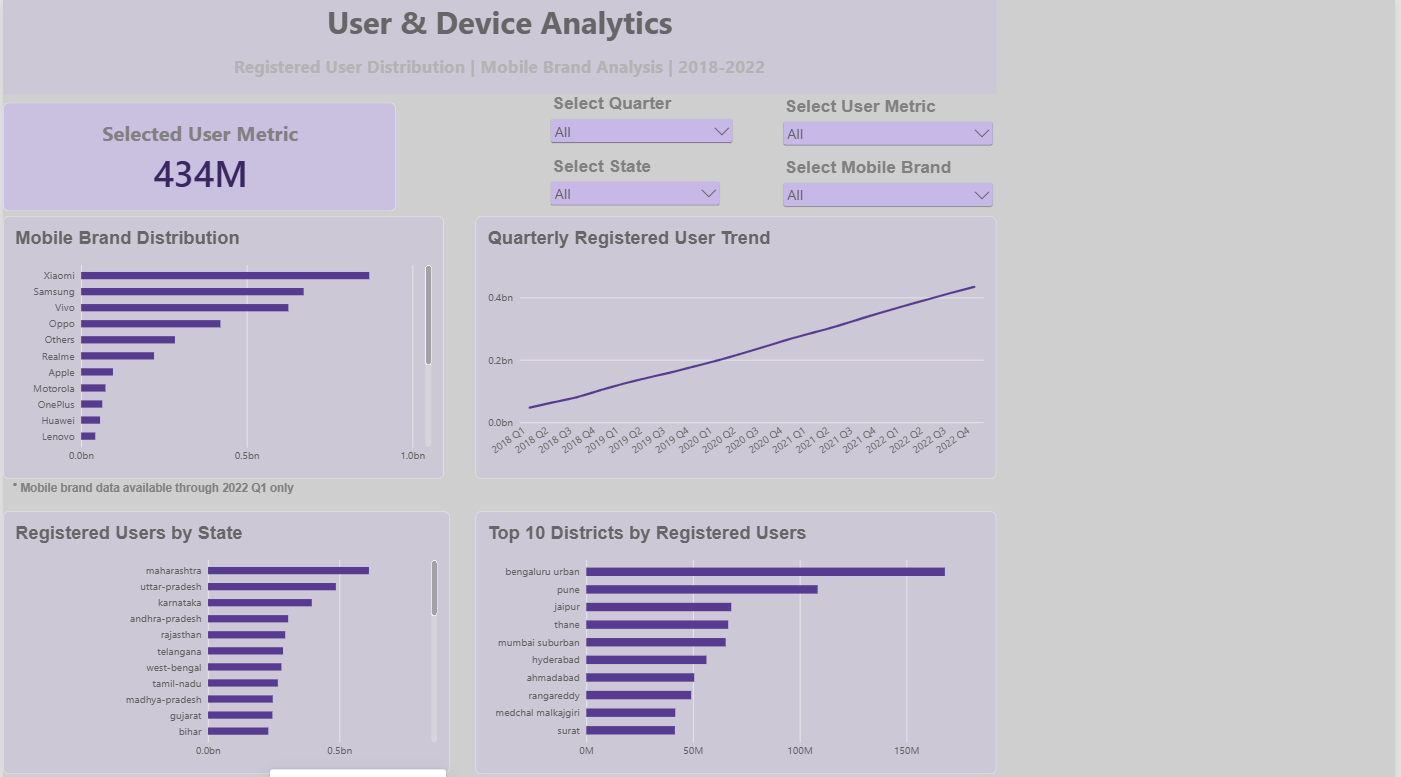

Layout of this report page (visuals, bound fields, positions):
{"tool":"powerbi","page":{"name":"User & Device Analytics","canvas":[1920,1080],"ordinal":1},"visuals":[{"type":"textbox","box":[10,0,525,110],"z":0},{"type":"textbox","box":[0,0,1370,130],"z":1000},{"type":"slicer","fields":{"Values":["DimQuarter.year_quarter"]},"box":[750,130,262,98],"z":2000},{"type":"slicer","fields":{"Values":["DimState.states"]},"box":[750,216,244,98],"z":3000},{"type":"clusteredBarChart","title":"Mobile Brand Distribution","fields":{"Category":["aggregated_user.brand"],"Y":["Sum(aggregated_user.user_counts)"]},"box":[0,298,608,362],"z":4000},{"type":"clusteredBarChart","title":"Registered Users by State","fields":{"Category":["map_user.states"],"Y":["Sum(map_user.registered_user_counts)"]},"box":[0,706,616,362],"z":5000},{"type":"clusteredBarChart","title":"Top 10 Districts by Registered Users","fields":{"Category":["top_user.district"],"Y":["Sum(top_user.registered_user_counts)"]},"box":[652,706,718,362],"z":6000},{"type":"lineChart","title":"Quarterly Registered User Trend","fields":{"Category":["DimQuarter.year_quarter"],"Y":["Sum(map_user.registered_user_counts)"]},"box":[652,298,718,362],"z":7000},{"type":"textbox","box":[0,660,608,22],"z":8000},{"type":"slicer","fields":{"Values":["aggregated_user.brand"]},"box":[1070,218,300,98],"z":8001},{"type":"slicer","fields":{"Values":["User Metric.Metric"]},"box":[1070,132,300,98],"z":8002},{"type":"cardVisual","fields":{"Data":["map_user.Selected User Metric"]},"box":[0,142,542,150],"z":8003}]}

Visuals, with their boxes in screenshot pixels (x1, y1, x2, y2), scaled from the page's 1920x1080 canvas onto the 1401x777 screenshot:
textbox: locate(7, 0, 390, 79)
textbox: locate(0, 0, 1000, 94)
slicer - DimQuarter.year_quarter: locate(547, 94, 738, 164)
slicer - DimState.states: locate(547, 155, 725, 226)
"Mobile Brand Distribution" clusteredBarChart: locate(0, 214, 444, 475)
"Registered Users by State" clusteredBarChart: locate(0, 508, 449, 768)
"Top 10 Districts by Registered Users" clusteredBarChart: locate(476, 508, 1000, 768)
"Quarterly Registered User Trend" lineChart: locate(476, 214, 1000, 475)
textbox: locate(0, 475, 444, 491)
slicer - aggregated_user.brand: locate(781, 157, 1000, 227)
slicer - User Metric.Metric: locate(781, 95, 1000, 165)
cardVisual - map_user.Selected User Metric: locate(0, 102, 395, 210)
